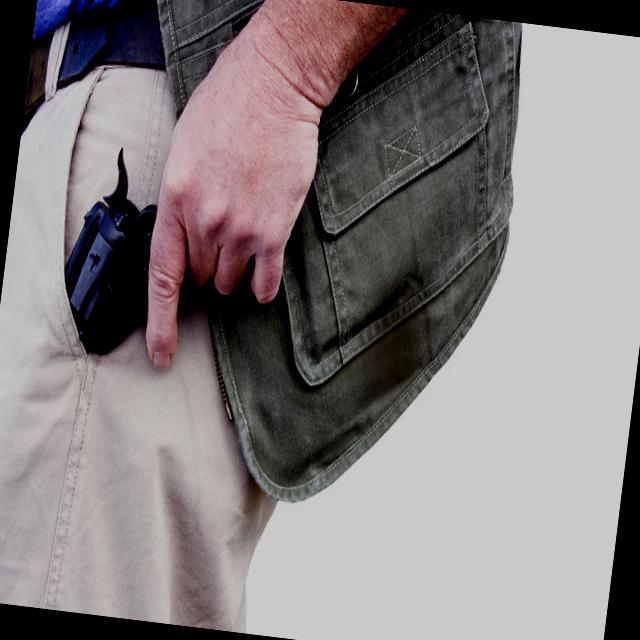handgun: (10, 123, 224, 527)
